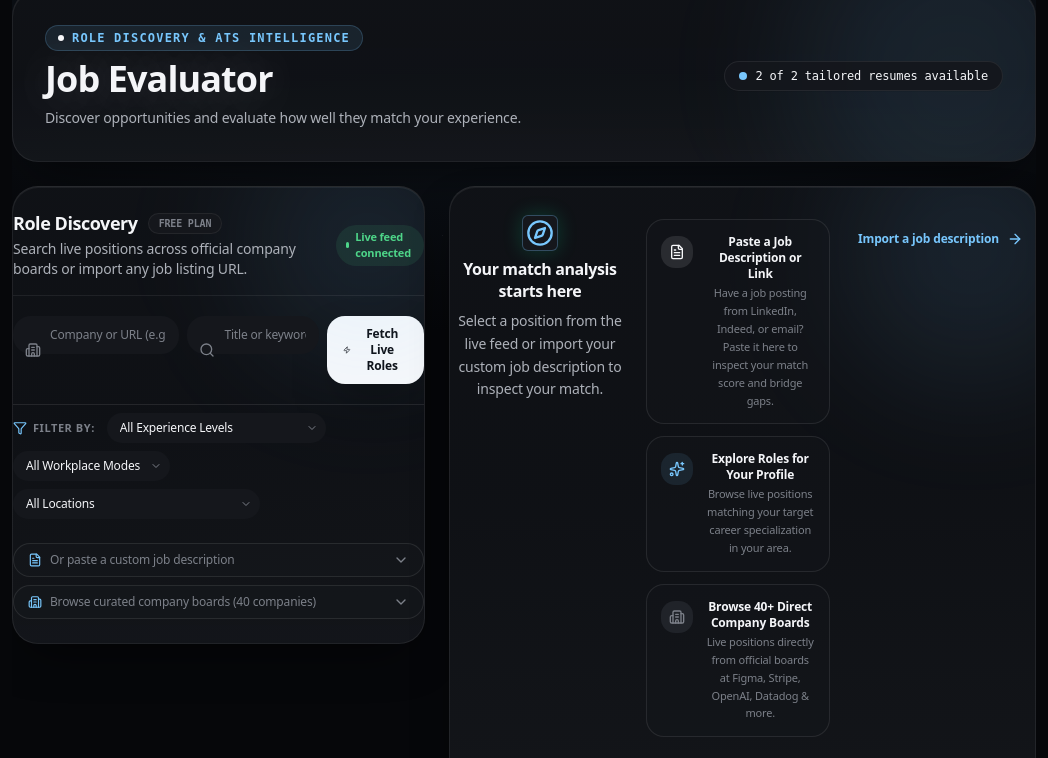
JobEvaluatorView - Feed & Count Transparency › does NOT display inflated "Fetched 400 active roles" banner when positions are loaded
Note: Click Fetch Live Roles
Click the button "Fetch Live Roles".
click(375, 350)  # box [327,316,424,384]
(page scrolled)
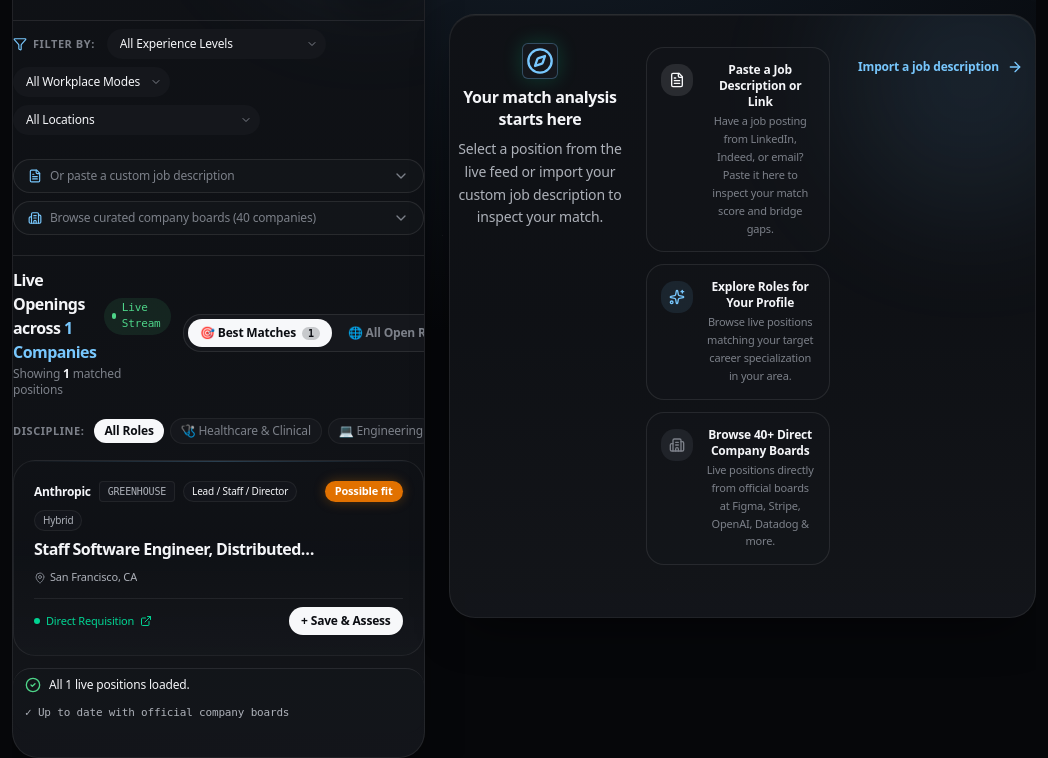
Result: the heading "Staff Software Engineer, Distributed Systems" is shown at [34,537,317,561]
